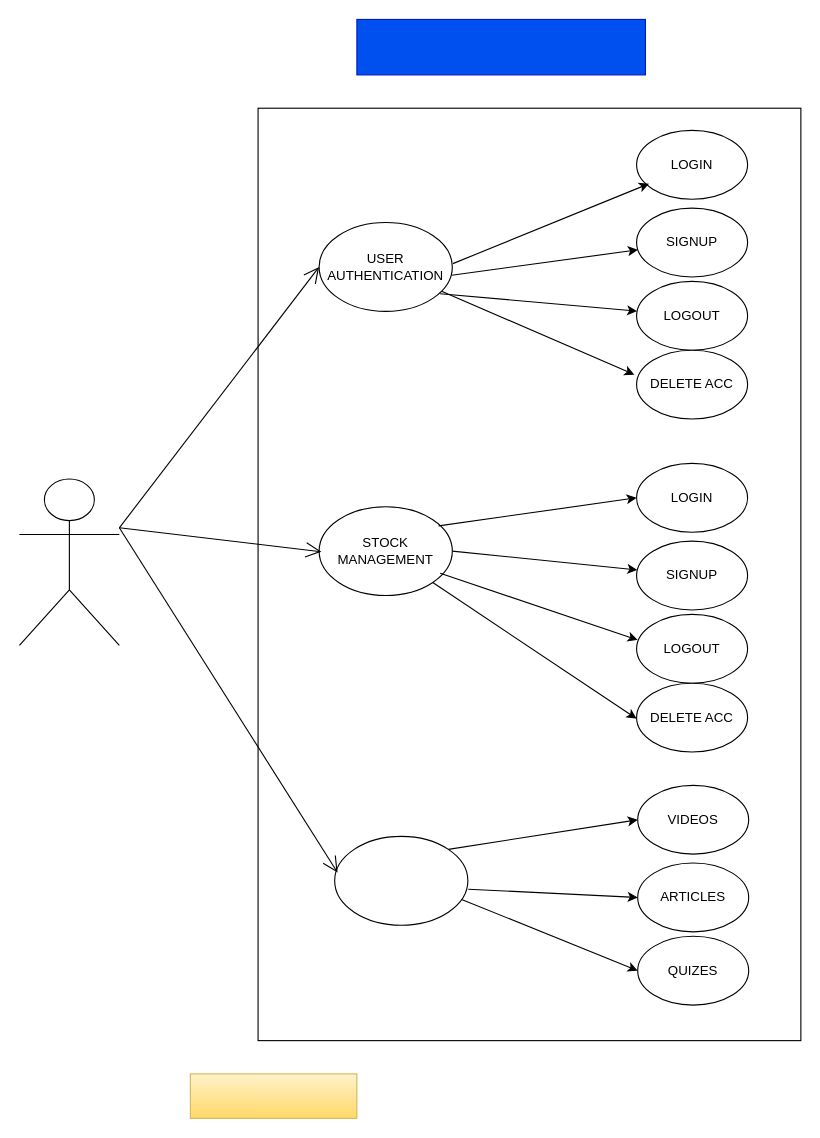
This 820x1138 diagram has some shape labels left out. Here are the shapes that lost their labels. From the top down, the centre of each, then its label:
At (x=500, y=46): "USECASE LEVEL 1".
At (x=68, y=561): "USER".
At (x=401, y=880): "LEARNING MATERIAL".
At (x=273, y=1095): "STOCK MARKET SIMULATOR".
